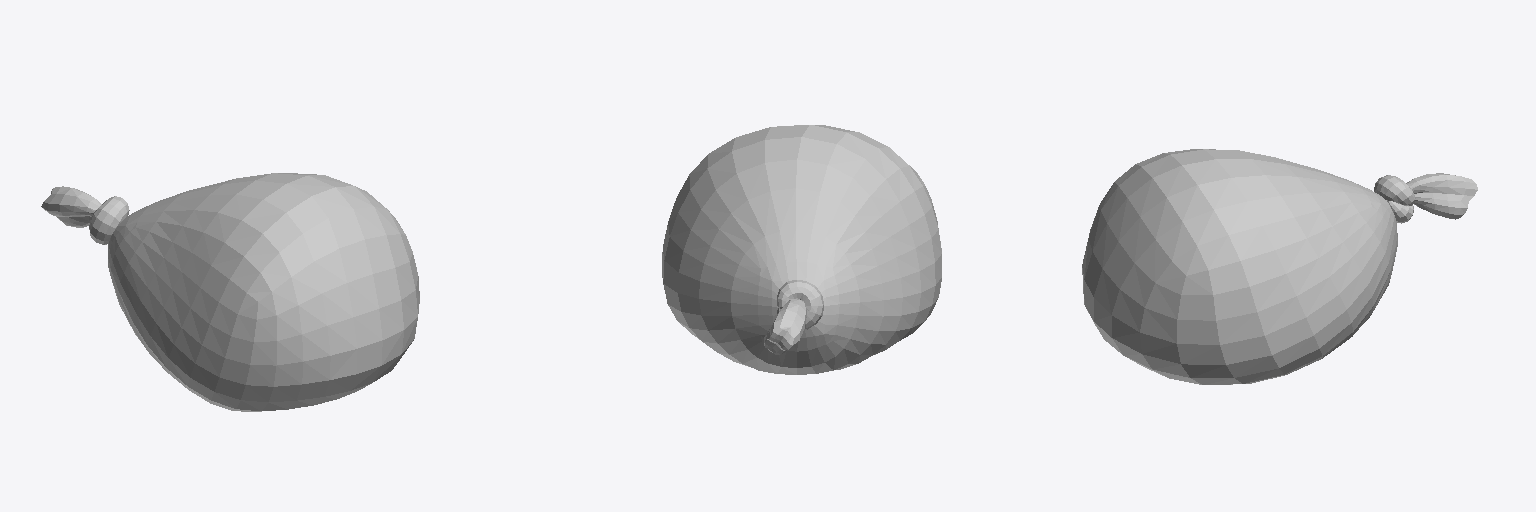
The model's file is saco.obj.
The picture shows the model from 3 angles: view 1: azimuth 30°, elevation 25°; view 2: azimuth 150°, elevation 25°; view 3: azimuth 270°, elevation 25°; orthographic projection.
Visible parts, largest first — view 1: Body_jinsters_padoru.004; view 2: Body_jinsters_padoru.004; view 3: Body_jinsters_padoru.004.
Boxes of the visible parts, x1=… form: Body_jinsters_padoru.004: x1=41, y1=173, x2=419, y2=411; Body_jinsters_padoru.004: x1=662, y1=125, x2=941, y2=374; Body_jinsters_padoru.004: x1=1082, y1=149, x2=1477, y2=384.
Bounding box in the file's own units: 0.2639 × 0.2015 × 0.3763.